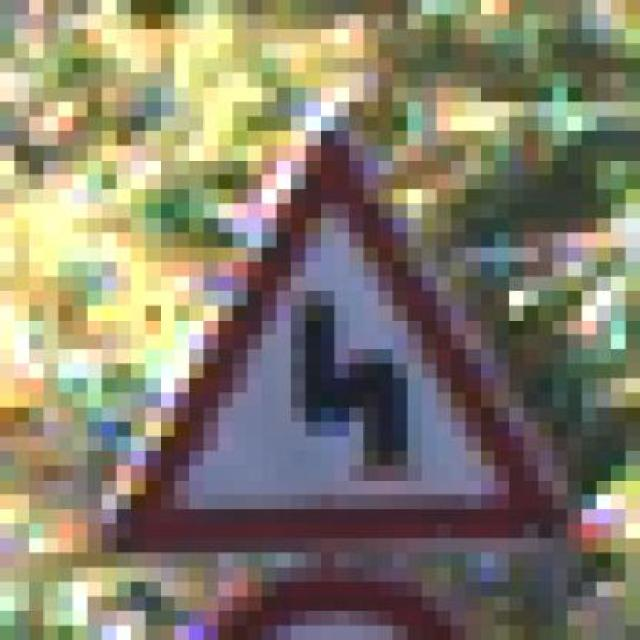Left Zig Zag Traffic: (44, 102, 582, 552)
